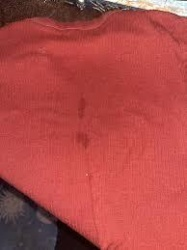oil: (69, 129, 94, 148), (72, 102, 85, 117)
